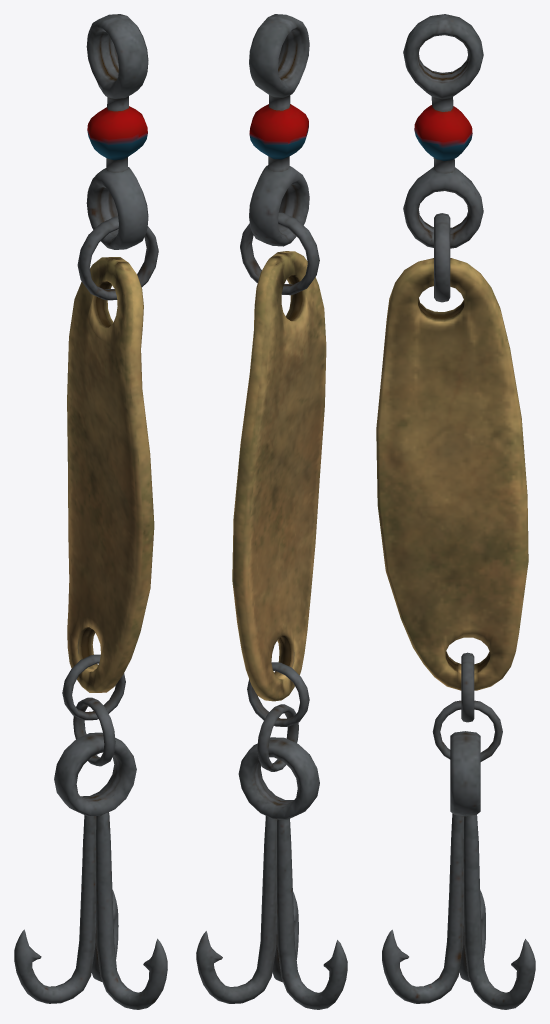
The model's file is lure.fbx.
3 renders of one model, left to right at view 1: azimuth 30°, elevation 25°; view 2: azimuth 150°, elevation 25°; view 3: azimuth 270°, elevation 25°, orthographic.
Visible parts, largest first — view 1: spining01.015; view 2: spining01.015; view 3: spining01.015.
Boxes of the visible parts, x1,y1,x2,y2 form: spining01.015: [14, 14, 167, 1009]; spining01.015: [196, 14, 347, 1009]; spining01.015: [376, 14, 535, 1009].
Size of the model in its own units: 3.28 by 24.23 by 3.56.
